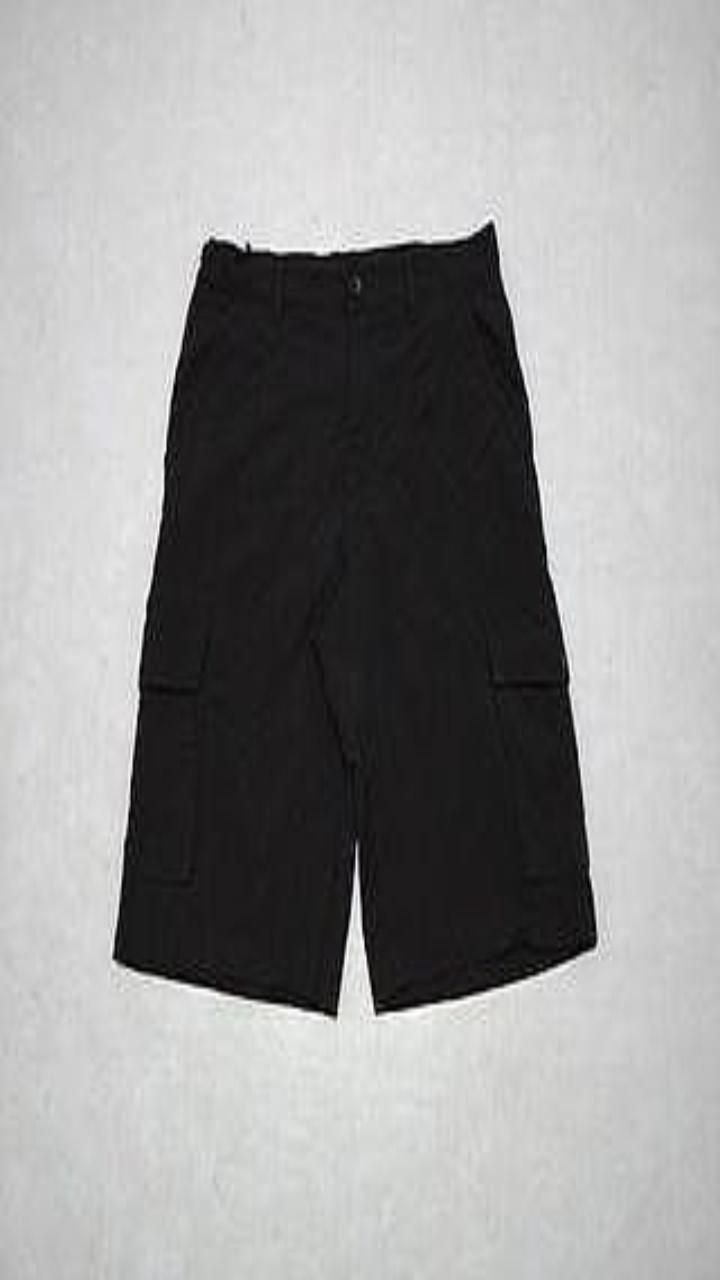Shorts: (113, 223, 595, 1014)
